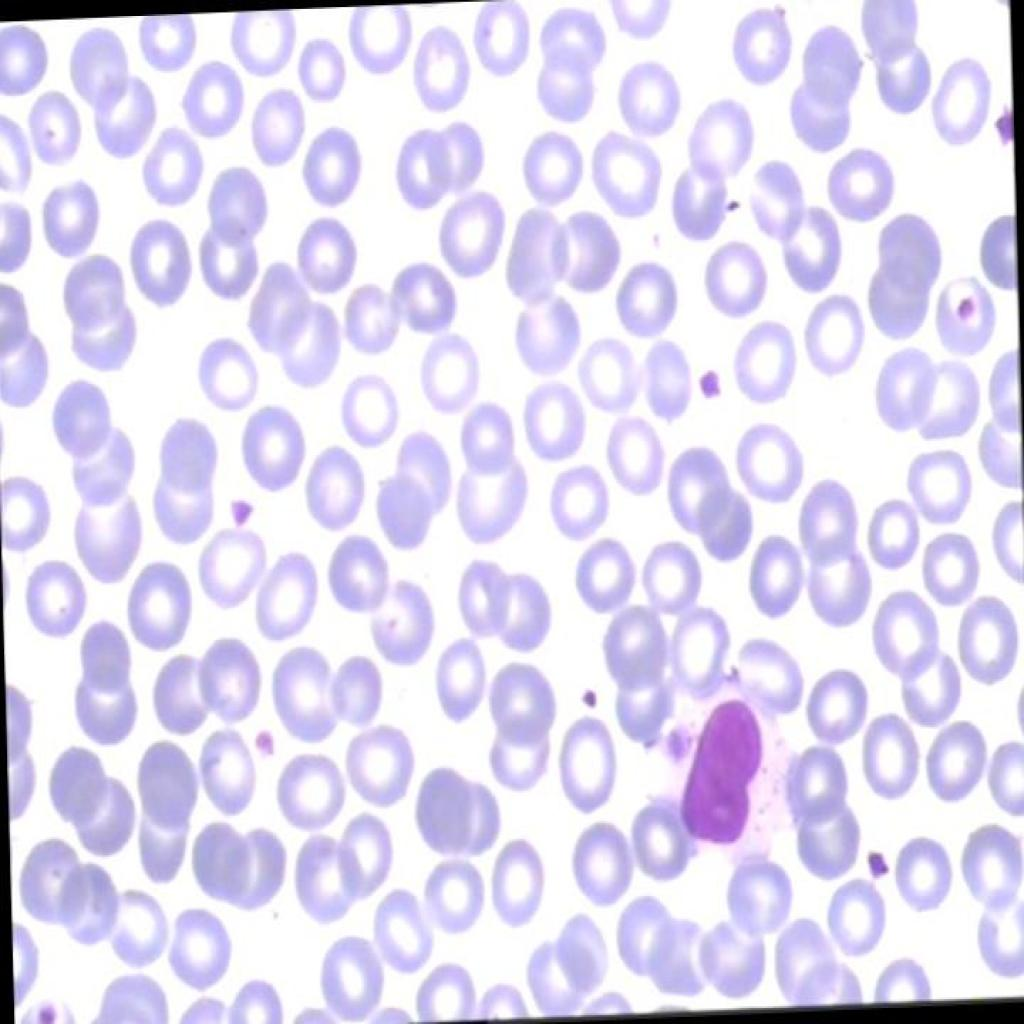Monosit: (653, 677, 785, 866)
Platelet: (216, 487, 265, 549), (249, 725, 289, 777), (862, 839, 902, 891), (687, 356, 721, 406), (986, 101, 1012, 153), (946, 286, 983, 322), (31, 994, 63, 1022), (579, 682, 600, 714)
